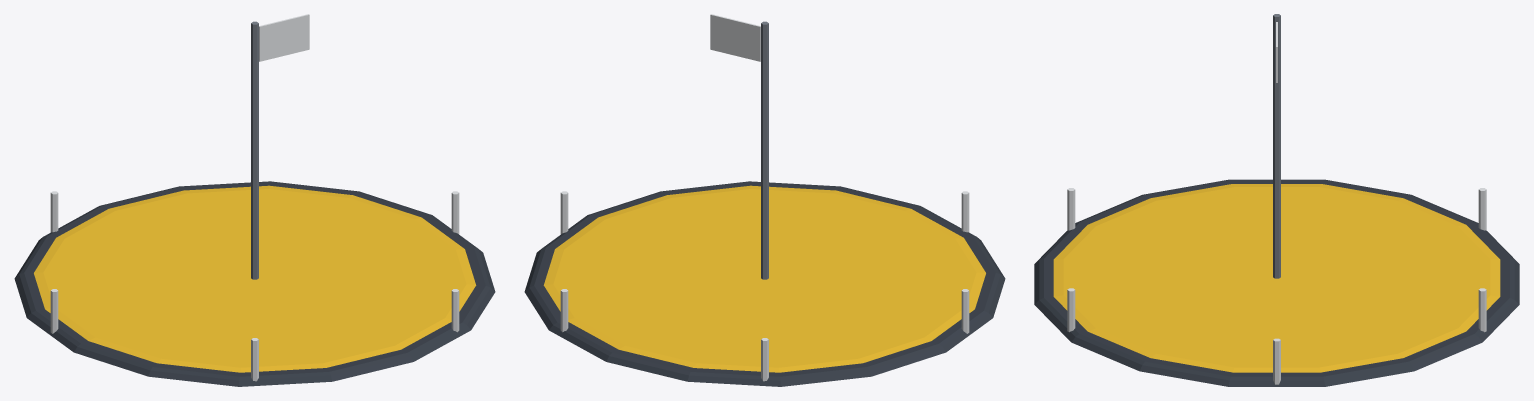
The model's file is capture_point.glb.
3 views of the same model, side by side, from view 1: azimuth 30°, elevation 25°; view 2: azimuth 150°, elevation 25°; view 3: azimuth 270°, elevation 25° (orthographic). The views are drawn at different scales.
Parts seen in each view (by area): view 1: capture_point; view 2: capture_point; view 3: capture_point.
Boxes of the visible parts, box(x1,y1,x2,y2) form: capture_point: box(14, 14, 495, 386); capture_point: box(524, 14, 1005, 386); capture_point: box(1034, 14, 1519, 386).
Bounding box in the file's own units: 4.9 × 3 × 4.9.
